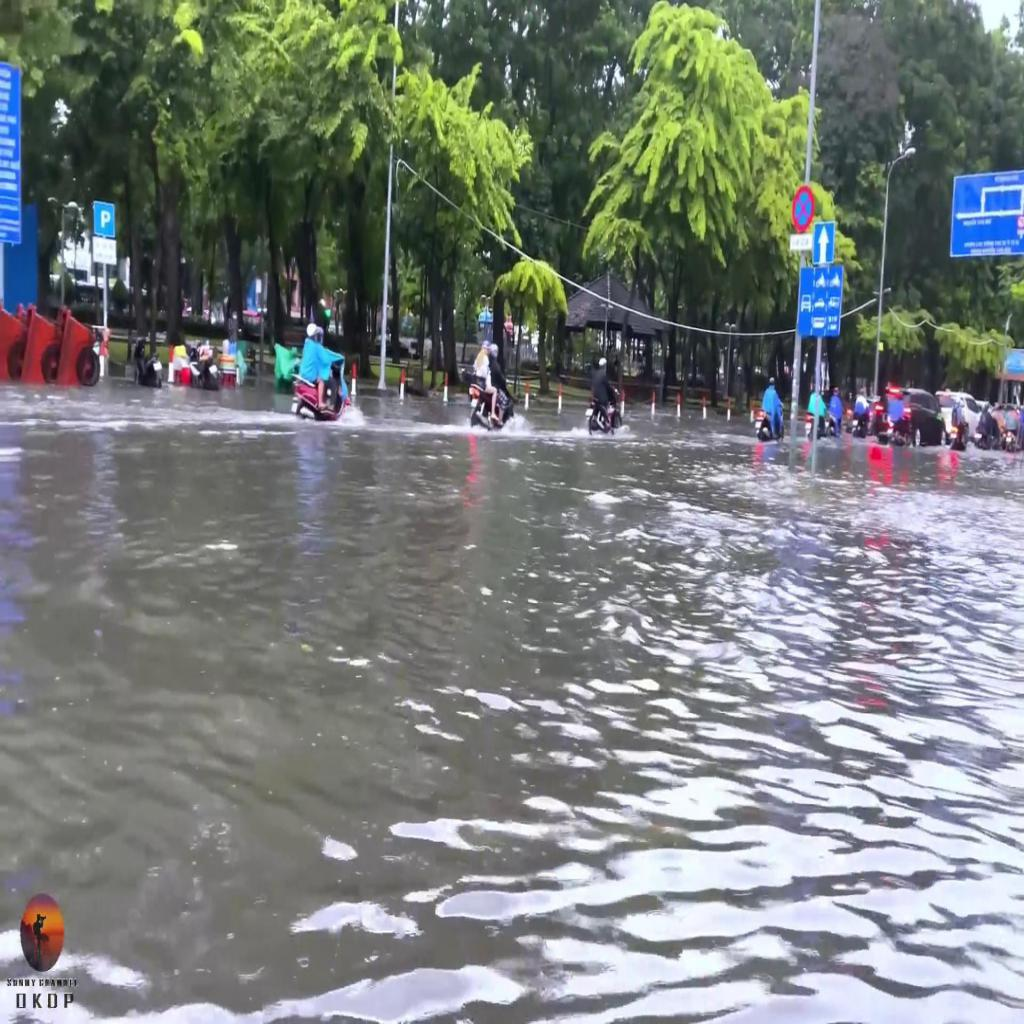cam_dung_xe_va_do_xe: (792, 186, 813, 229)
duong_mot_chieu: (812, 222, 835, 263)
khac: (950, 172, 1024, 256), (94, 202, 115, 237), (92, 237, 117, 266)
lan_duong_cho_tung_xe_theo_vach_ke_duong: (797, 264, 844, 334)
